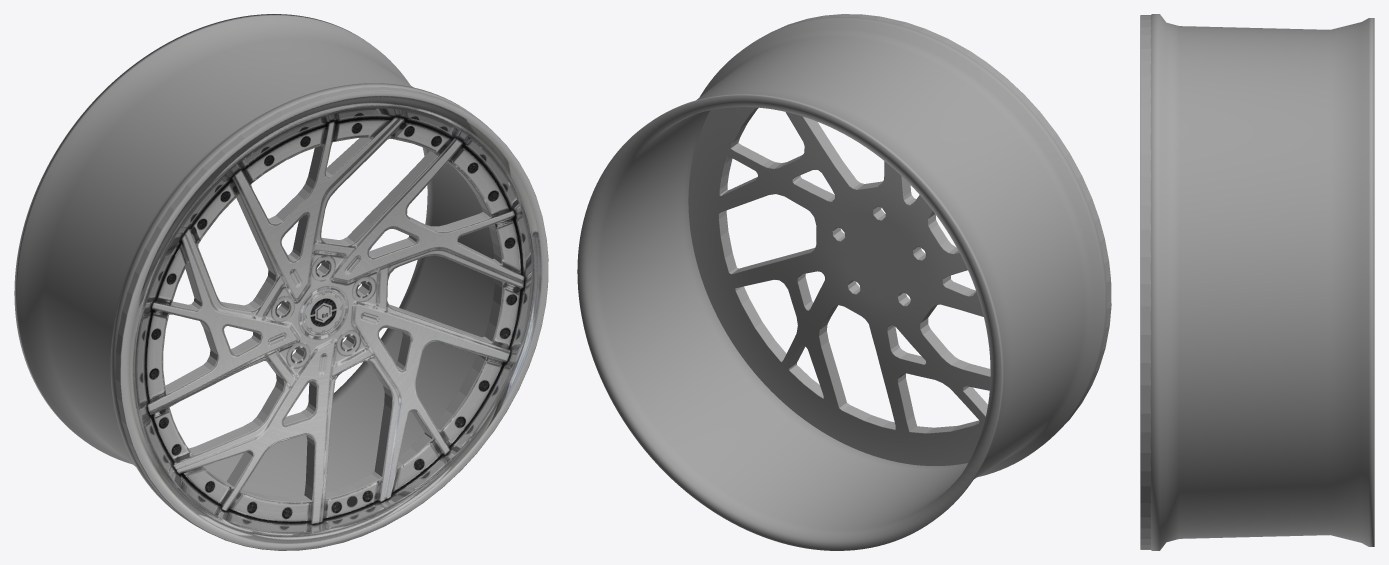
The model's file is e6-multipiece-sr5.glb.
The picture shows the model from 3 angles, left to right: view 1: azimuth 30°, elevation 25°; view 2: azimuth 150°, elevation 25°; view 3: azimuth 270°, elevation 25°; orthographic projection. The views are drawn at different scales.
Parts seen in each view (by area): view 1: Photo_traced_face_0, Approximate_rear_barrel; view 2: Approximate_rear_barrel, Photo_traced_face_0; view 3: Approximate_rear_barrel, Photo_traced_face_0.
Part boxes in pixels (bbox=[...]): Photo_traced_face_0: bbox=[115, 87, 548, 550]; Approximate_rear_barrel: bbox=[14, 14, 494, 529]; Approximate_rear_barrel: bbox=[577, 17, 1107, 550]; Photo_traced_face_0: bbox=[688, 14, 1111, 465]; Approximate_rear_barrel: bbox=[1150, 14, 1374, 550]; Photo_traced_face_0: bbox=[1140, 15, 1150, 549].
Size of the model in its own units: 2.06 by 2.06 by 0.9.
2 materials, 1 textured.
